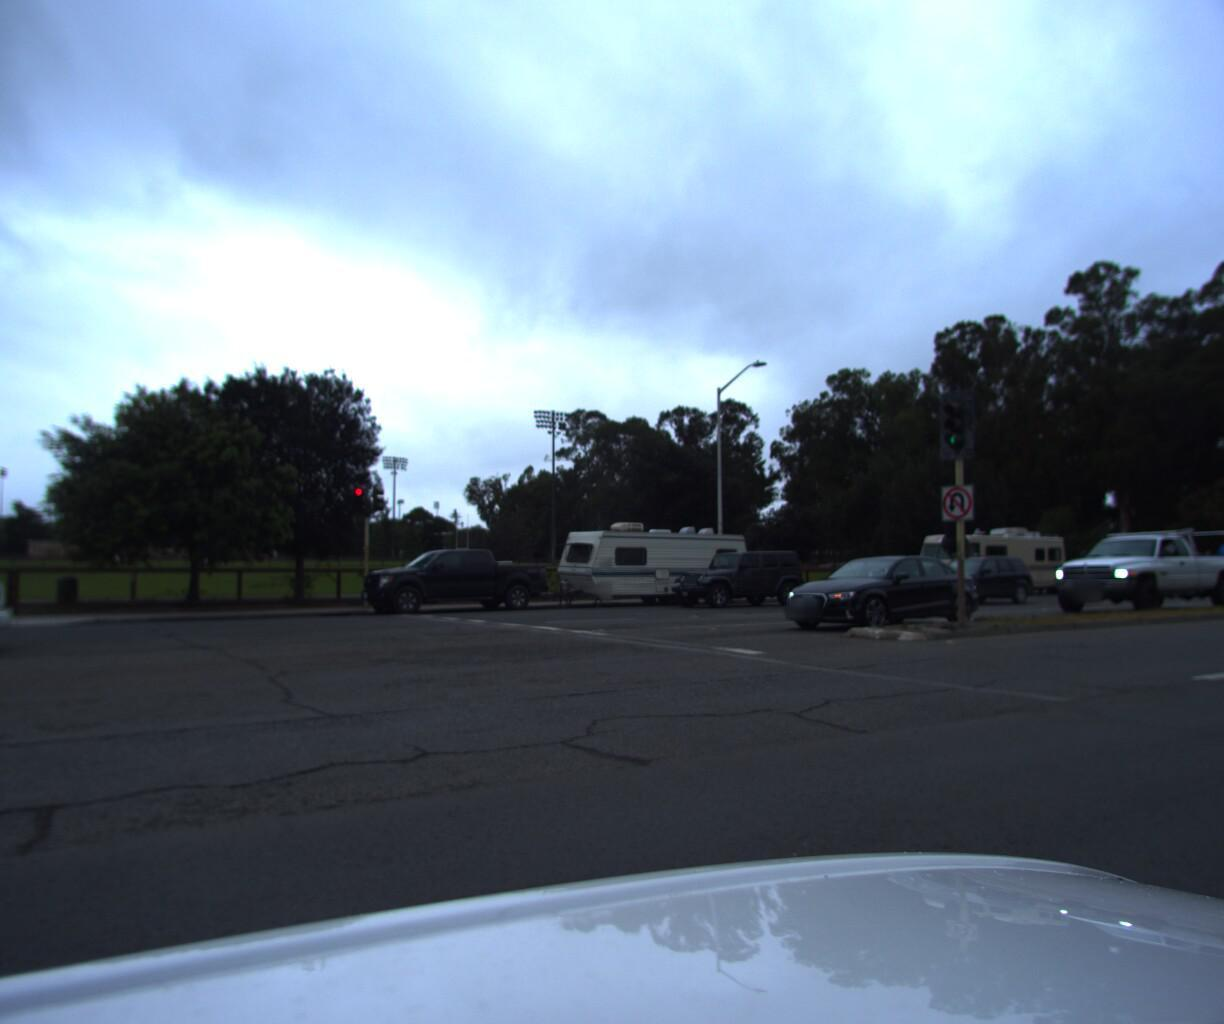car: (763, 552, 988, 633), (1031, 513, 1224, 605), (349, 546, 556, 615), (662, 545, 802, 605), (907, 545, 1039, 598), (0, 552, 4, 691)
other_vehicle: (530, 514, 756, 608), (902, 514, 1070, 588), (1201, 524, 1224, 579)
